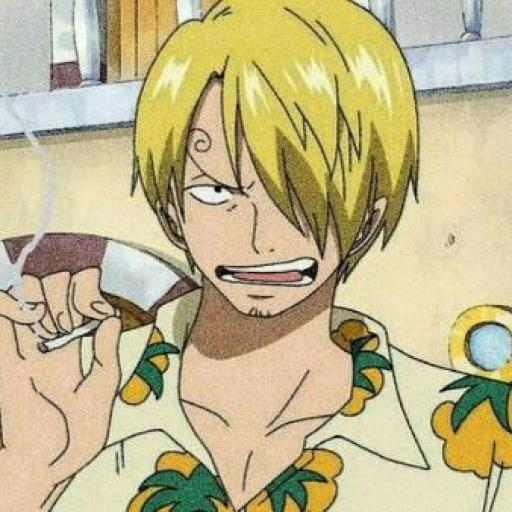sanji: (29, 0, 511, 512)
